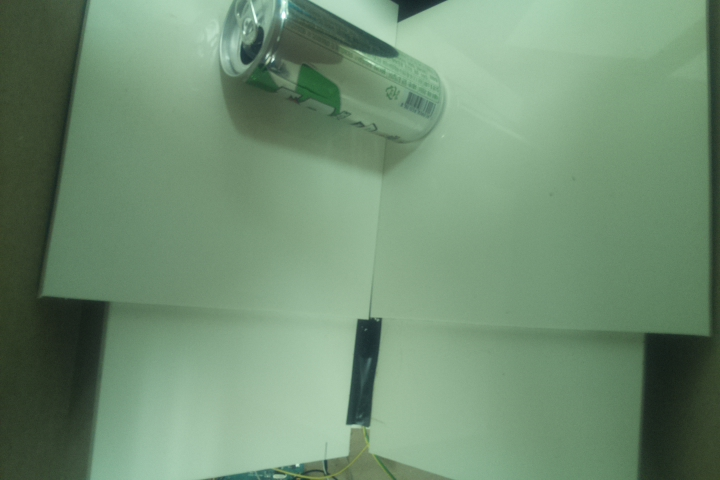can: (219, 1, 451, 145)
